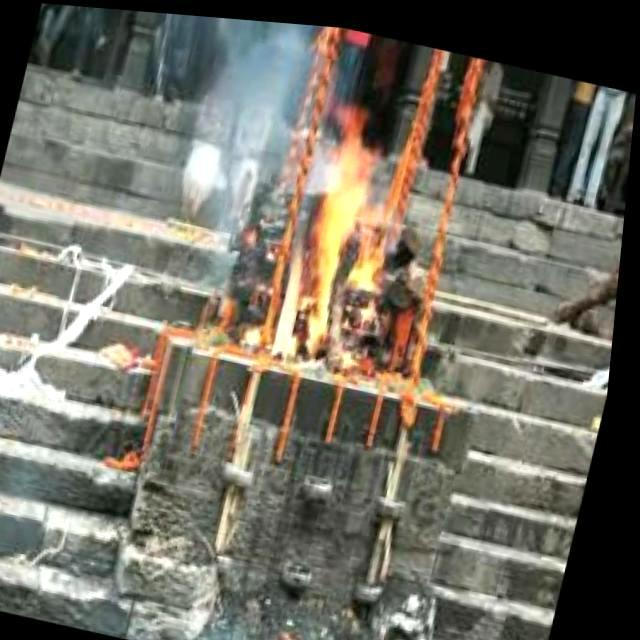fire: (269, 122, 419, 374)
